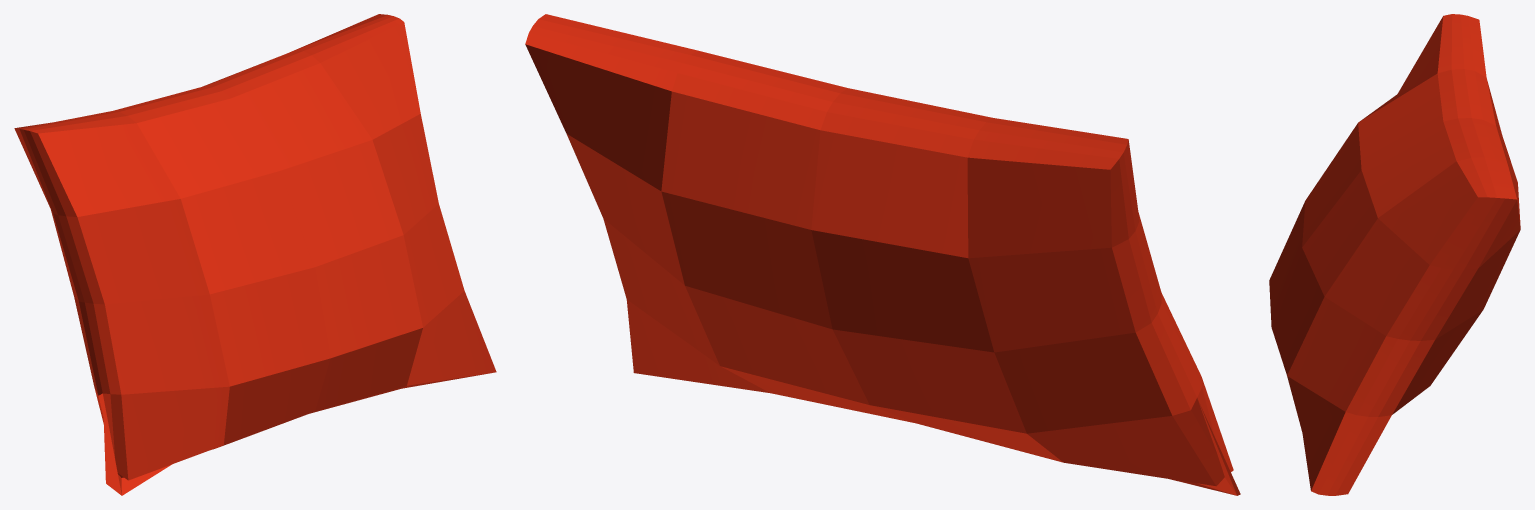
The model's file is Pillow.fbx.
The picture shows the model from 3 angles, left to right: view 1: azimuth 30°, elevation 25°; view 2: azimuth 150°, elevation 25°; view 3: azimuth 270°, elevation 25°; orthographic projection. The views are drawn at different scales.
Visible parts, largest first — view 1: Pillow_LOD0; view 2: Pillow_LOD0; view 3: Pillow_LOD0.
Part boxes in pixels (left/top/right/bottom): Pillow_LOD0: left=14, top=14, right=496, bottom=495; Pillow_LOD0: left=525, top=14, right=1240, bottom=495; Pillow_LOD0: left=1269, top=14, right=1520, bottom=495.
Size of the model in its own units: 53.9 by 39.89 by 29.49.
